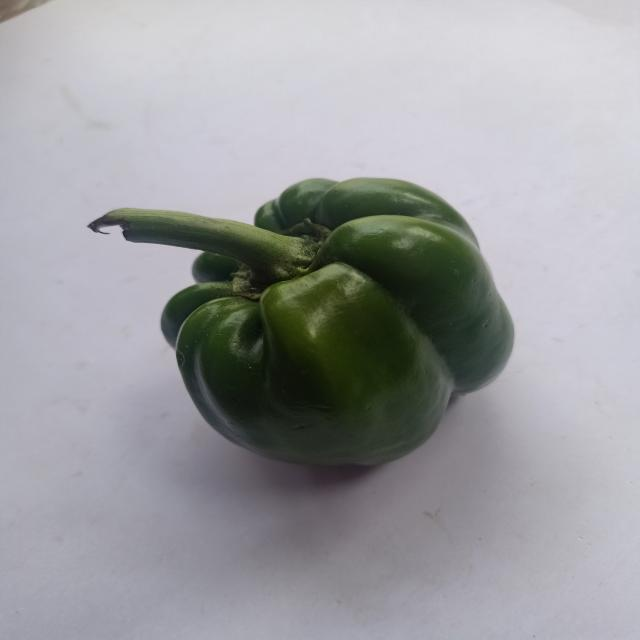Capsicum: (75, 164, 528, 490)
